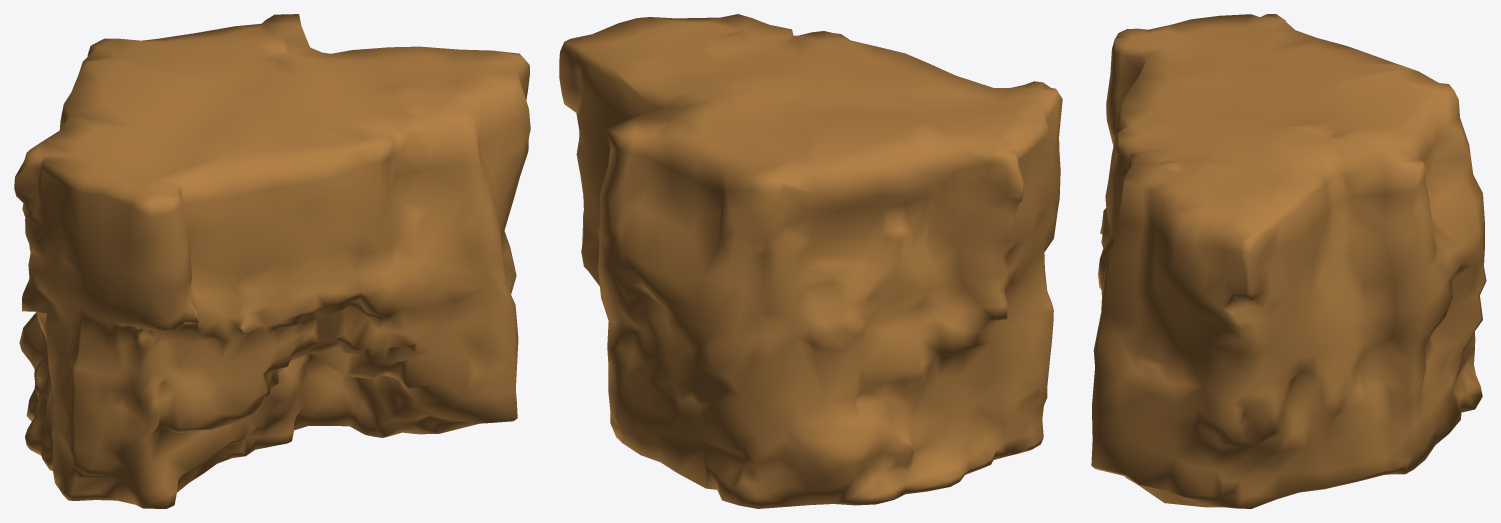
The model's file is MSH_Rocks_Cliff_01_a.FBX.
3 renders of one model, left to right at view 1: azimuth 30°, elevation 25°; view 2: azimuth 150°, elevation 25°; view 3: azimuth 270°, elevation 25°, orthographic. The views are drawn at different scales.
Visible parts, largest first — view 1: MESH_LOD0; view 2: MESH_LOD0; view 3: MESH_LOD0.
Part boxes in pixels (x1,y1,x2,y2): MESH_LOD0: (14, 14, 530, 508); MESH_LOD0: (559, 14, 1062, 508); MESH_LOD0: (1091, 14, 1486, 508).
Size of what is drawn, in the model's own units: 221 by 149 by 162.
